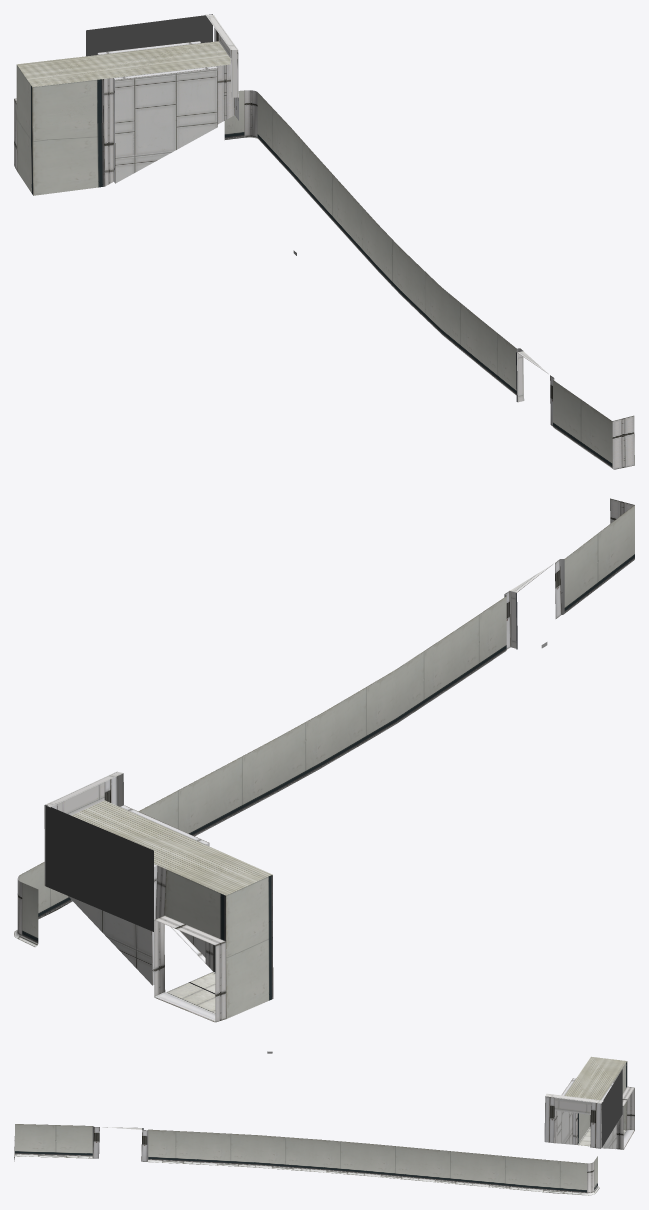
Rendered from sta20_clubext.FBX.
The picture shows the model from 3 angles, top to bottom: view 1: azimuth 30°, elevation 25°; view 2: azimuth 150°, elevation 25°; view 3: azimuth 270°, elevation 25°; orthographic projection. The views are drawn at different scales.
Visible parts, largest first — view 1: sta20_clubext; view 2: sta20_clubext; view 3: sta20_clubext.
Part boxes in pixels (bbox=[...]): sta20_clubext: bbox=[14, 14, 634, 469]; sta20_clubext: bbox=[14, 498, 634, 1022]; sta20_clubext: bbox=[14, 1051, 634, 1195].
Size of the model in its own units: 15.27 by 8.48 by 56.58.
